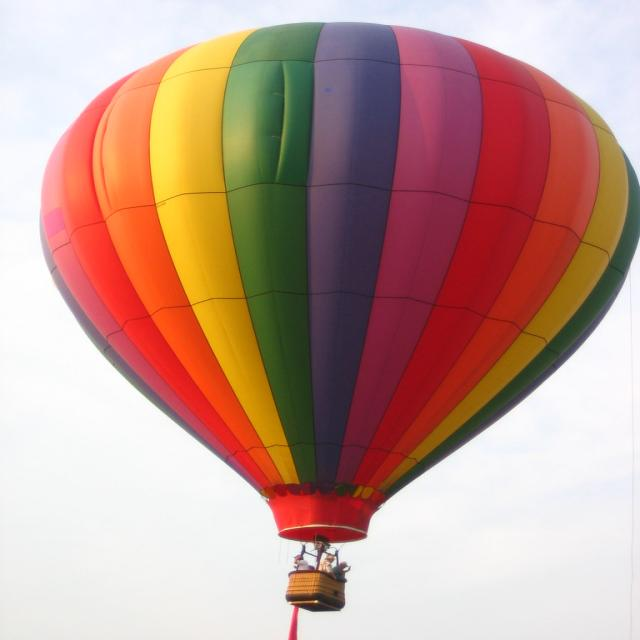balloon: (35, 18, 640, 618)
